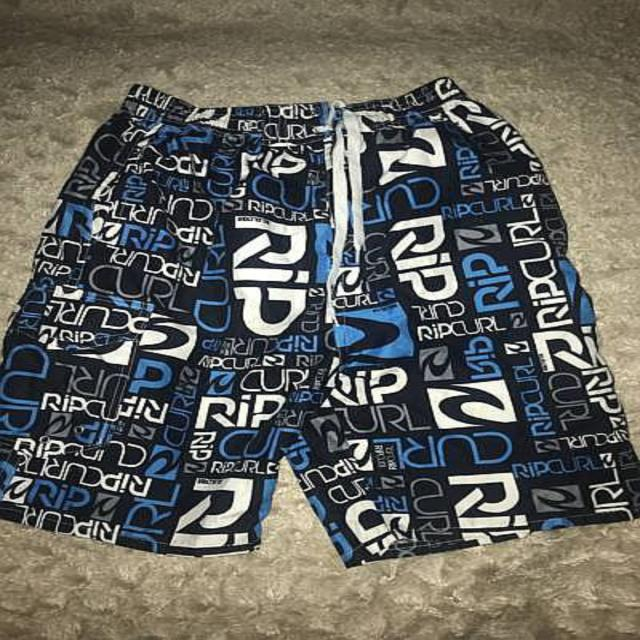SHORT: (2, 70, 640, 570)
